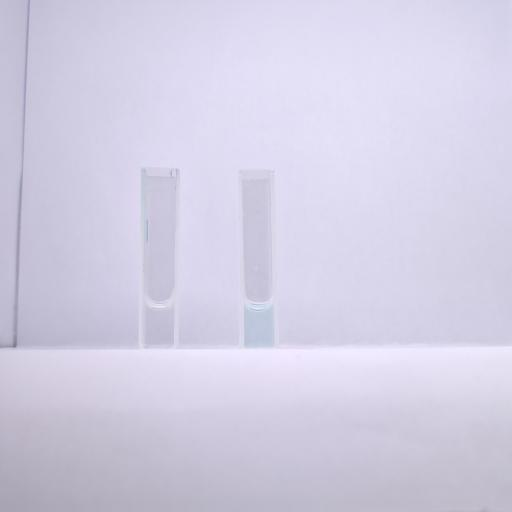cuvette: (234, 167, 280, 353), (137, 164, 178, 351)
liquid: (244, 300, 274, 348), (145, 299, 173, 347)
